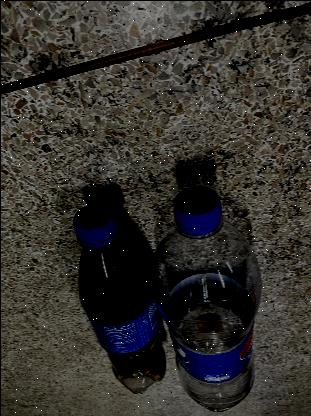Plastic Bottle: (149, 183, 261, 415), (72, 200, 166, 392)
